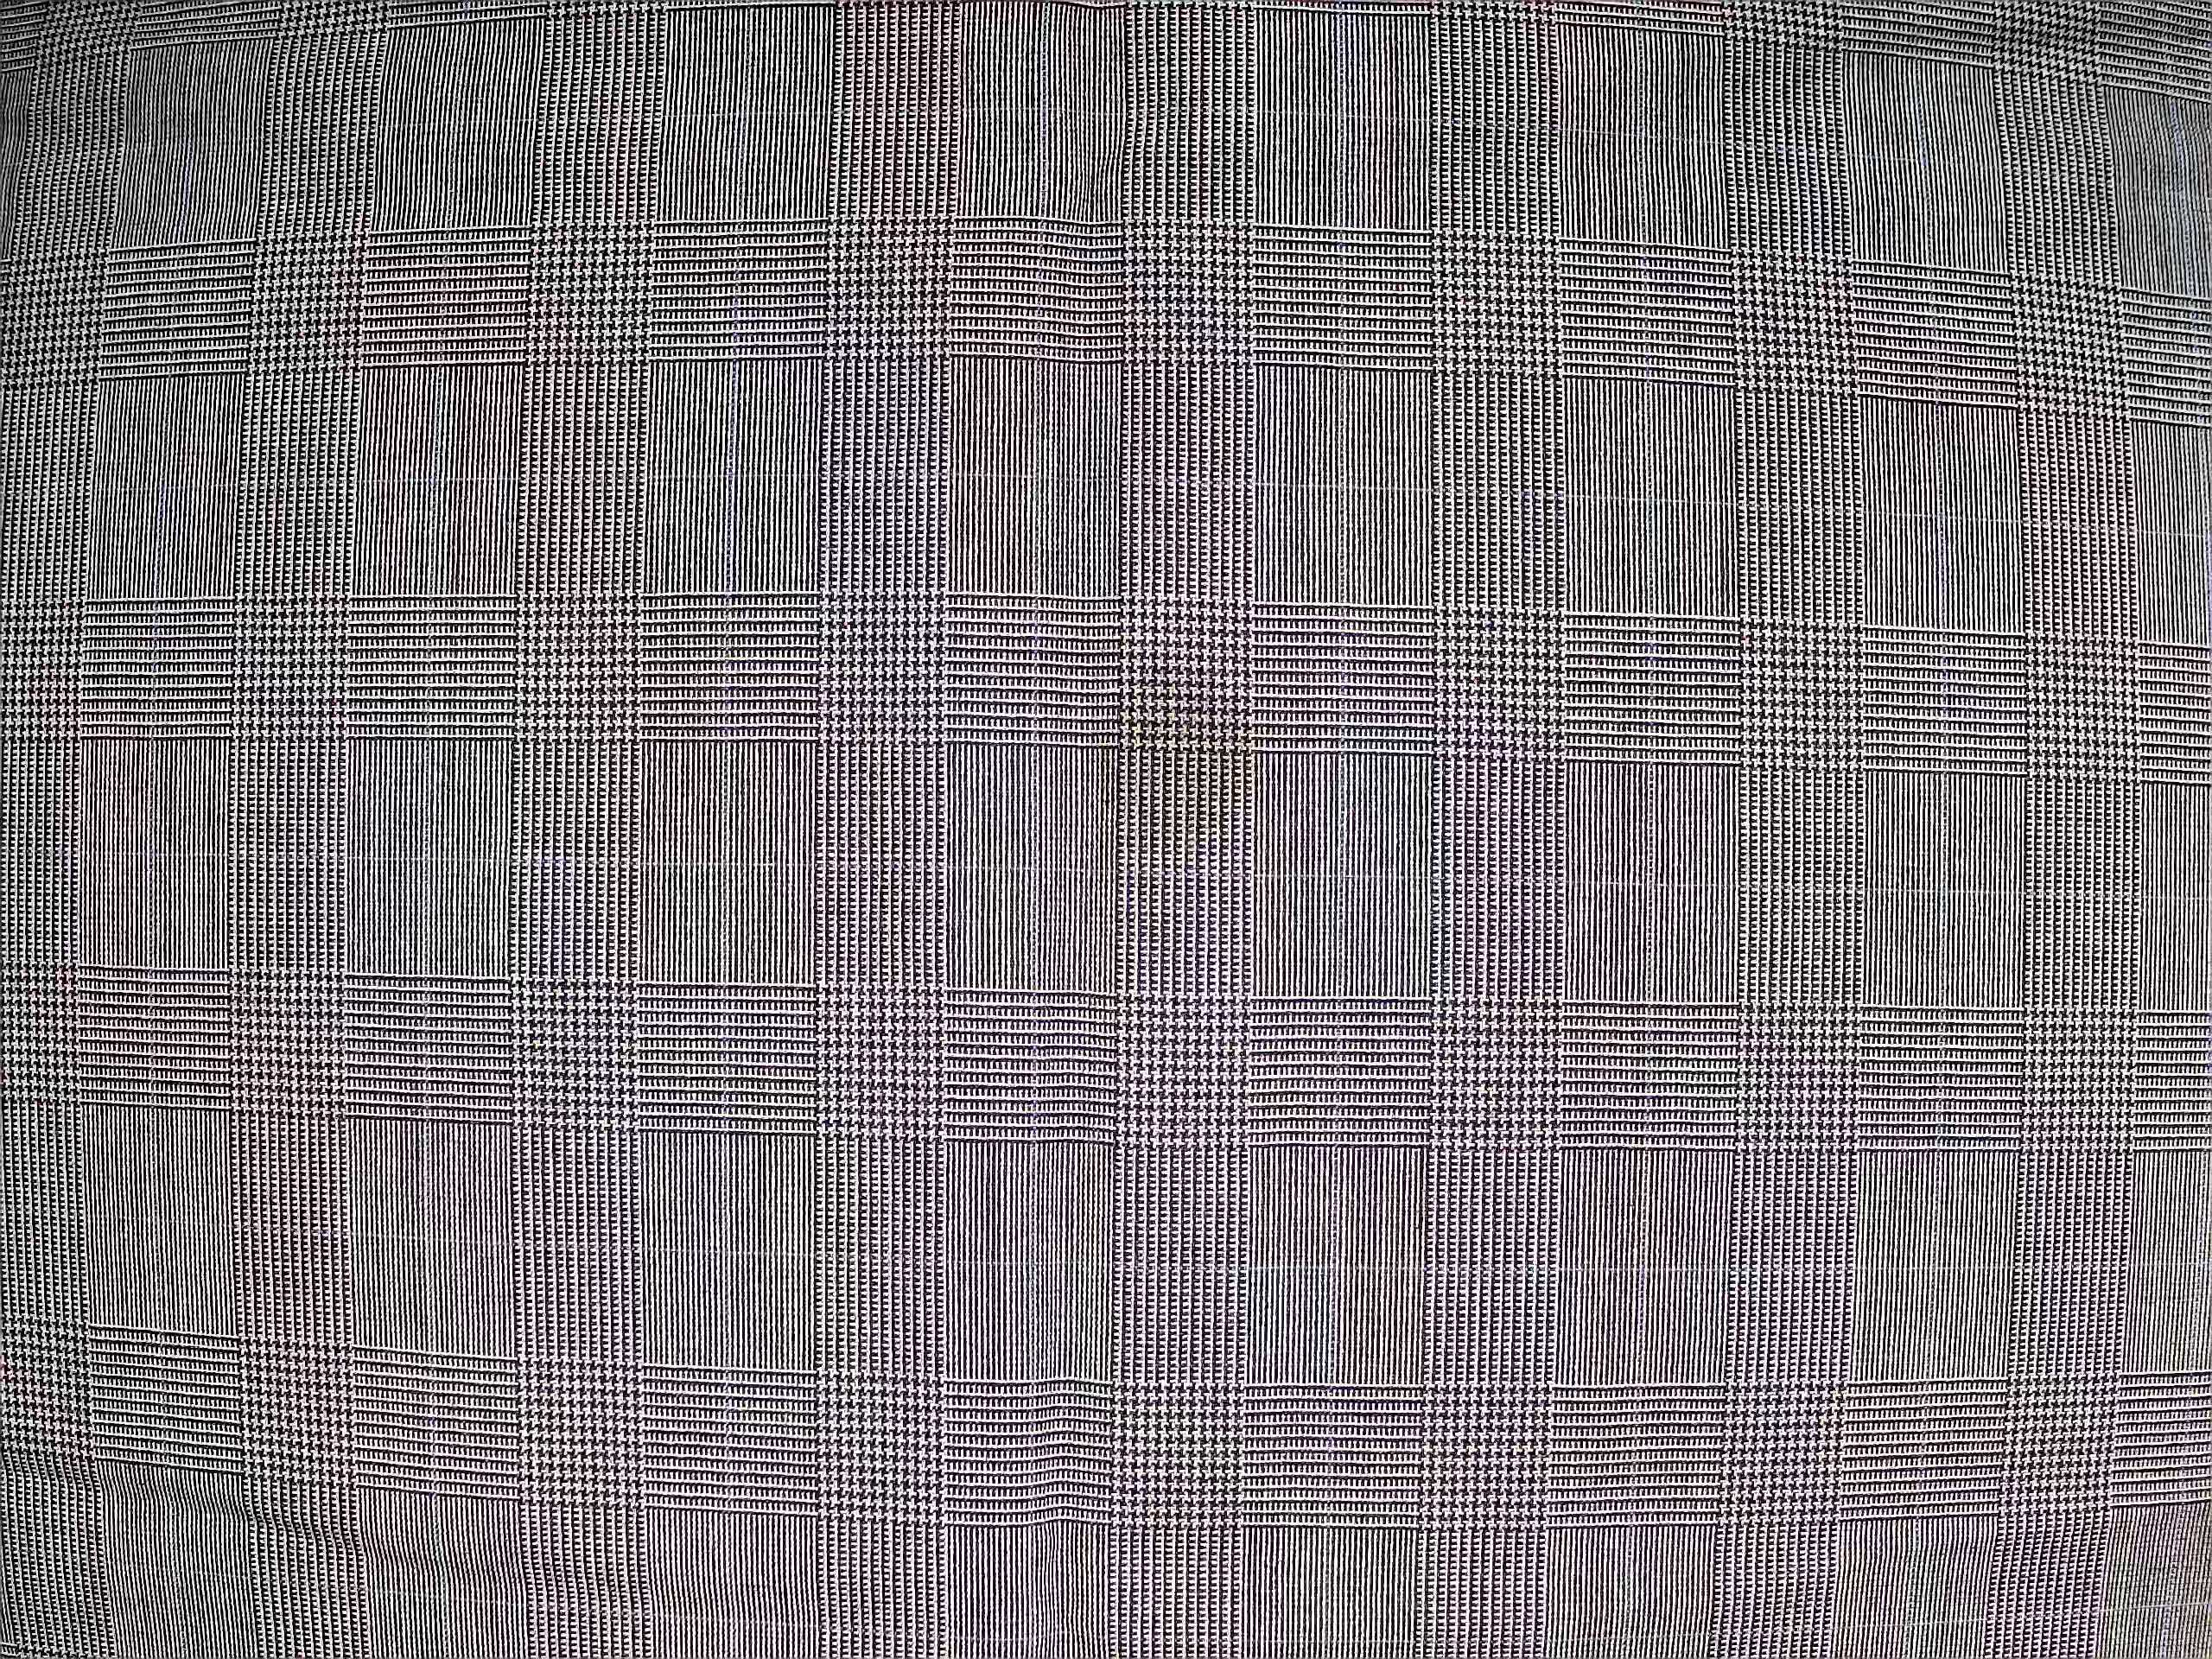others: (1066, 650, 1291, 897)
